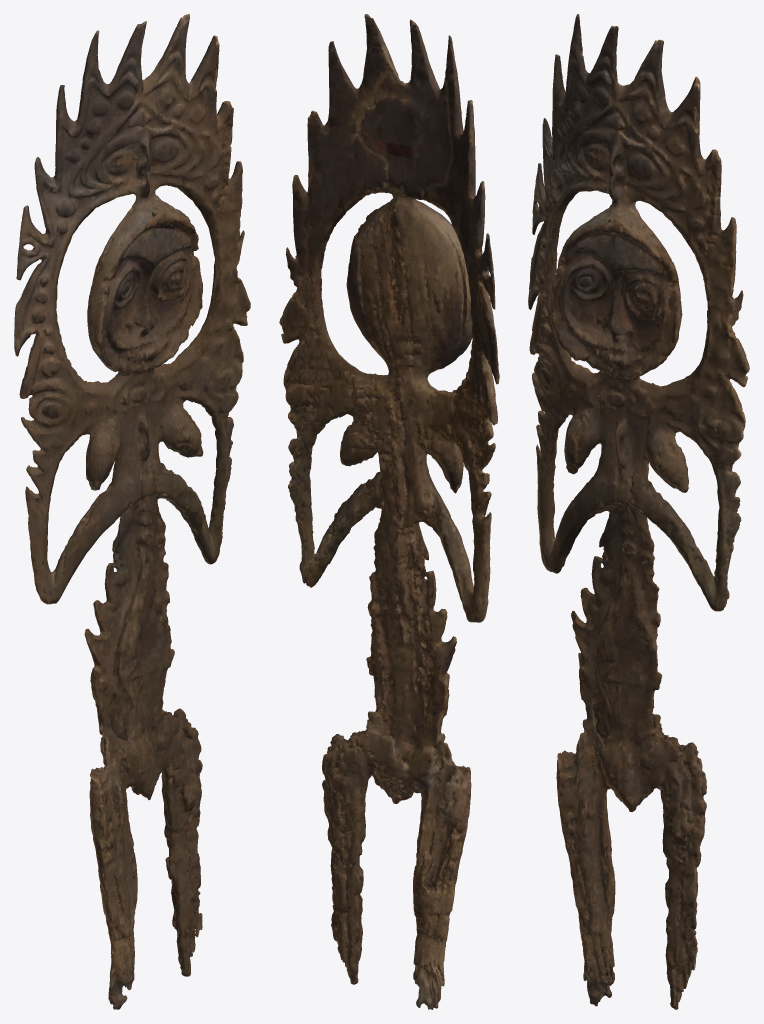
Rendered from preview.glb.
The picture shows the model from 3 angles, left to right: view 1: azimuth 30°, elevation 25°; view 2: azimuth 150°, elevation 25°; view 3: azimuth 330°, elevation 25°; orthographic projection.
Visible parts, largest first — view 1: ADVIMG_1978_412_857_FemaleFigure_n3d; view 2: ADVIMG_1978_412_857_FemaleFigure_n3d; view 3: ADVIMG_1978_412_857_FemaleFigure_n3d.
Part boxes in pixels (<box>): ADVIMG_1978_412_857_FemaleFigure_n3d: <box>14,14,250,1009</box>; ADVIMG_1978_412_857_FemaleFigure_n3d: <box>279,14,499,1009</box>; ADVIMG_1978_412_857_FemaleFigure_n3d: <box>528,14,749,1009</box>.
Size of the model in its own units: 0.4125 by 1.7 by 0.1156.
Materials: 1 (1 with a texture image).
